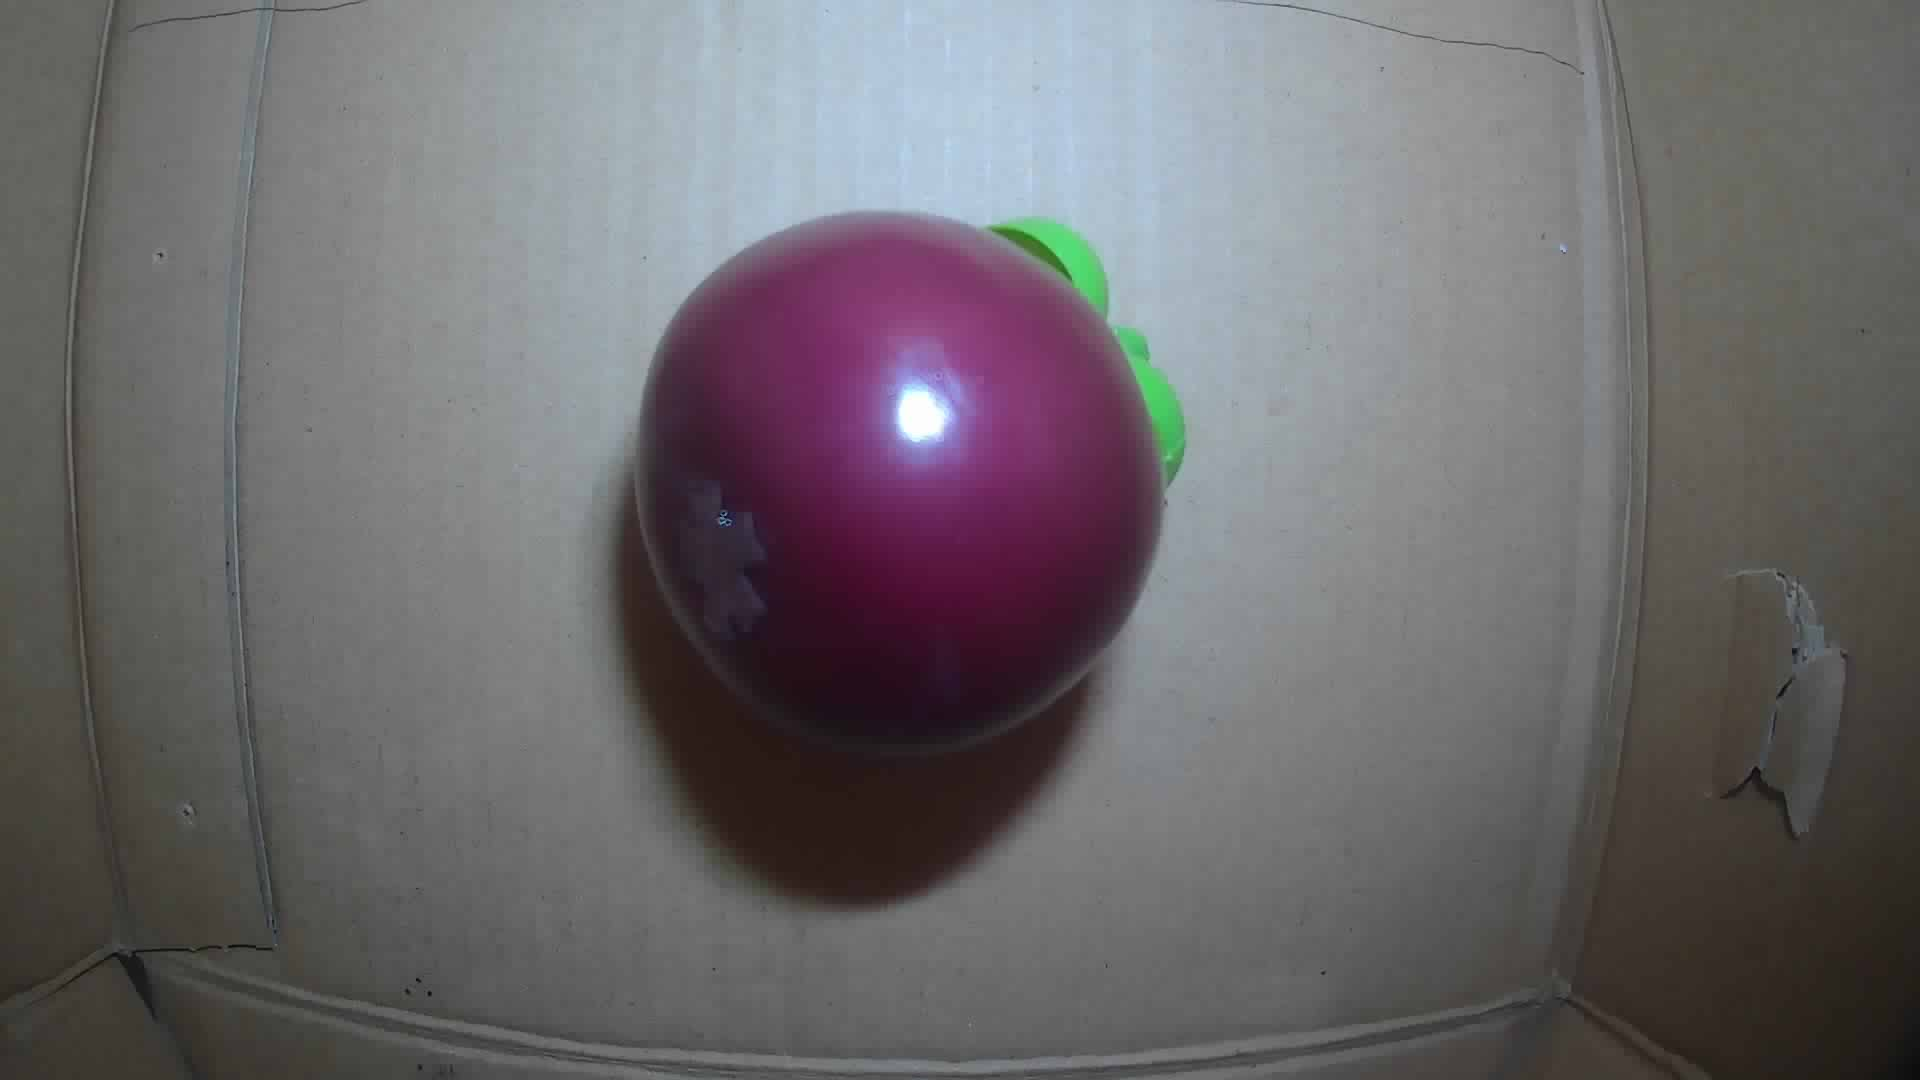mangosteen: (628, 204, 1189, 754)
